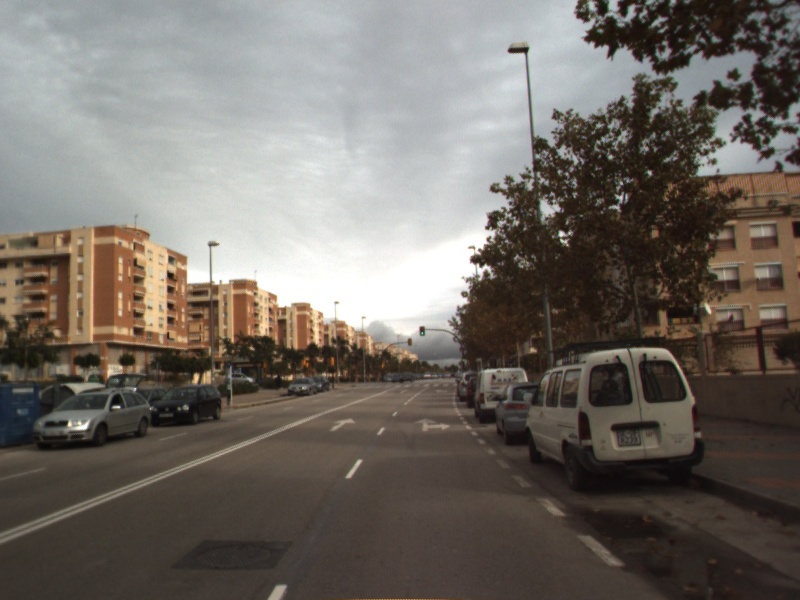STRAIGHT: (327, 415, 358, 433)
STRAIGHT_RIGHT: (412, 415, 452, 433)
